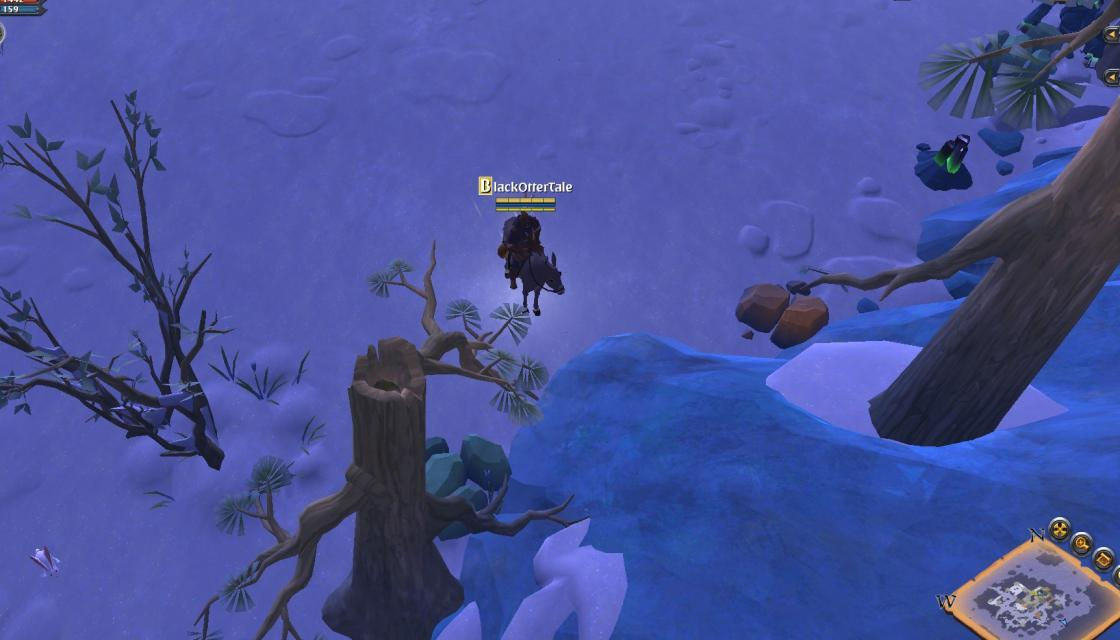limestone: (728, 279, 830, 349)
sandstone: (408, 428, 513, 538)
tinore: (909, 132, 978, 191)
